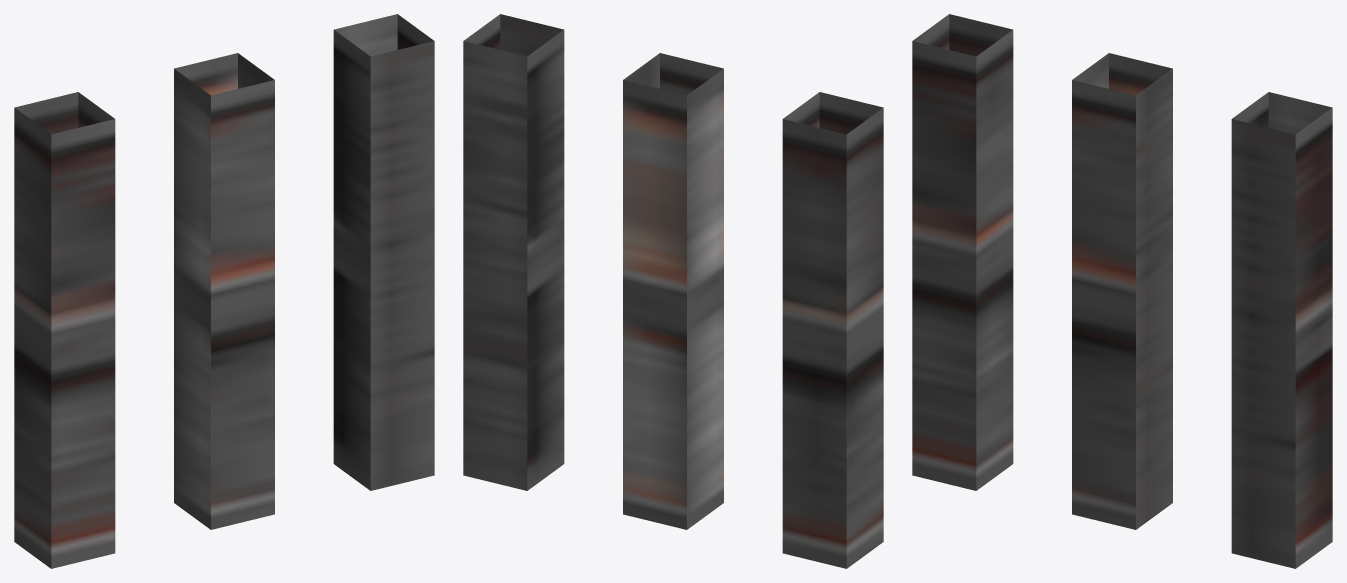
File: SUPGRY02_1.obj
The picture shows the model from 3 angles, left to right: view 1: azimuth 30°, elevation 25°; view 2: azimuth 150°, elevation 25°; view 3: azimuth 330°, elevation 25°; orthographic projection.
Visible parts, largest first — view 1: SUPGRY02_1; view 2: SUPGRY02_1; view 3: SUPGRY02_1.
Part boxes in pixels (x1=…): SUPGRY02_1: x1=14, y1=14, x2=434, y2=568; SUPGRY02_1: x1=463, y1=14, x2=883, y2=568; SUPGRY02_1: x1=912, y1=14, x2=1332, y2=568.
Bounding box in the file's own units: 192 × 208 × 32.
